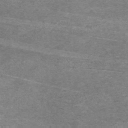finishing roll printing: (0, 38, 96, 60), (0, 16, 92, 32), (2, 72, 69, 91)
